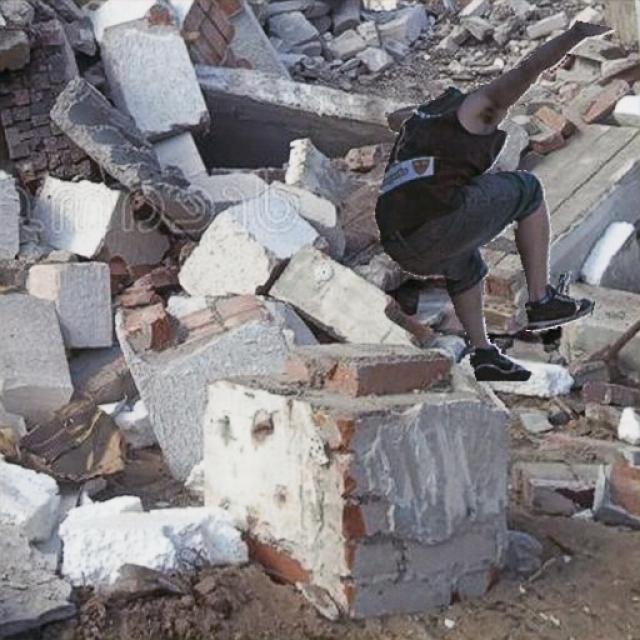Person in Rubble: (374, 20, 614, 380)
